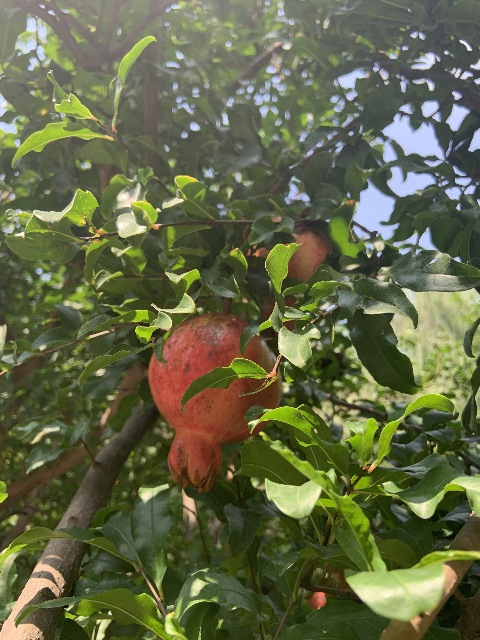ripe: (146, 313, 281, 493), (246, 231, 331, 337)
